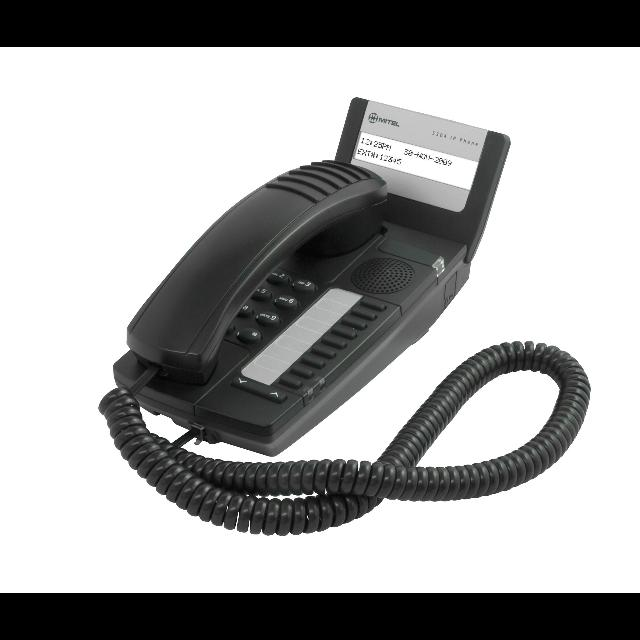Telephone-Set: (100, 88, 602, 524)
